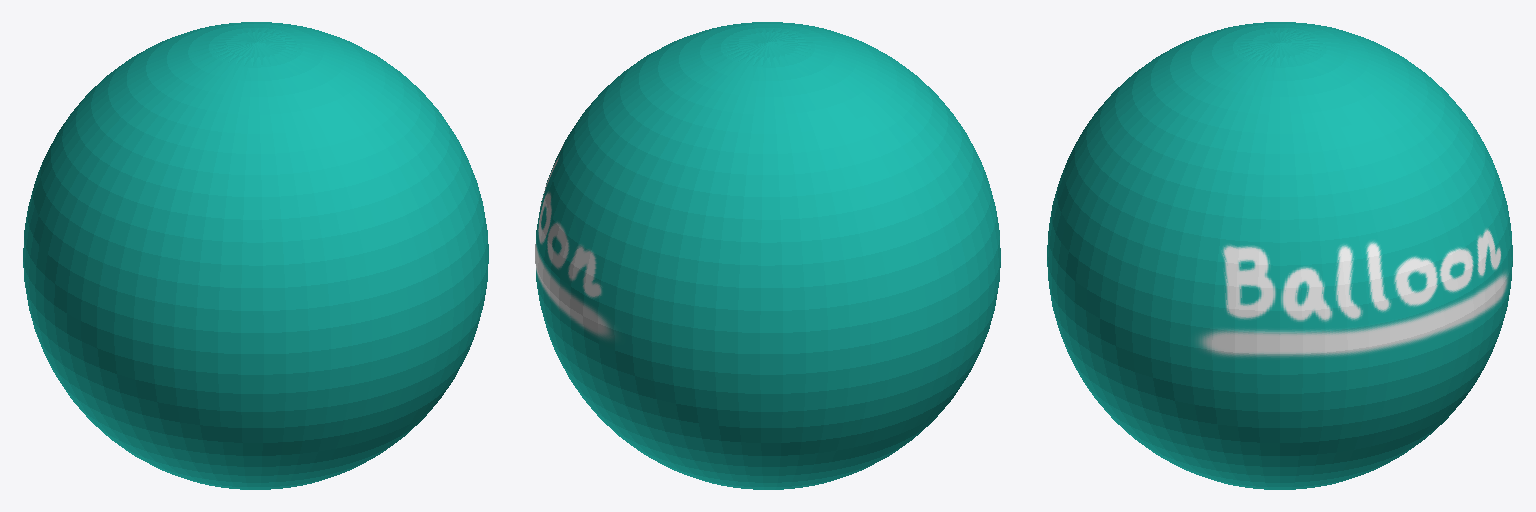
3 renders of one model, left to right at view 1: azimuth 30°, elevation 25°; view 2: azimuth 150°, elevation 25°; view 3: azimuth 270°, elevation 25°, orthographic.
Parts seen in each view (by area): view 1: Sphere; view 2: Sphere; view 3: Sphere.
Boxes of the visible parts, x1=… form: Sphere: x1=23, y1=22, x2=488, y2=489; Sphere: x1=535, y1=22, x2=1000, y2=489; Sphere: x1=1047, y1=22, x2=1512, y2=489.
Size of the model in its own units: 1.97 by 2 by 1.97.
Materials: 1 (1 with a texture image).